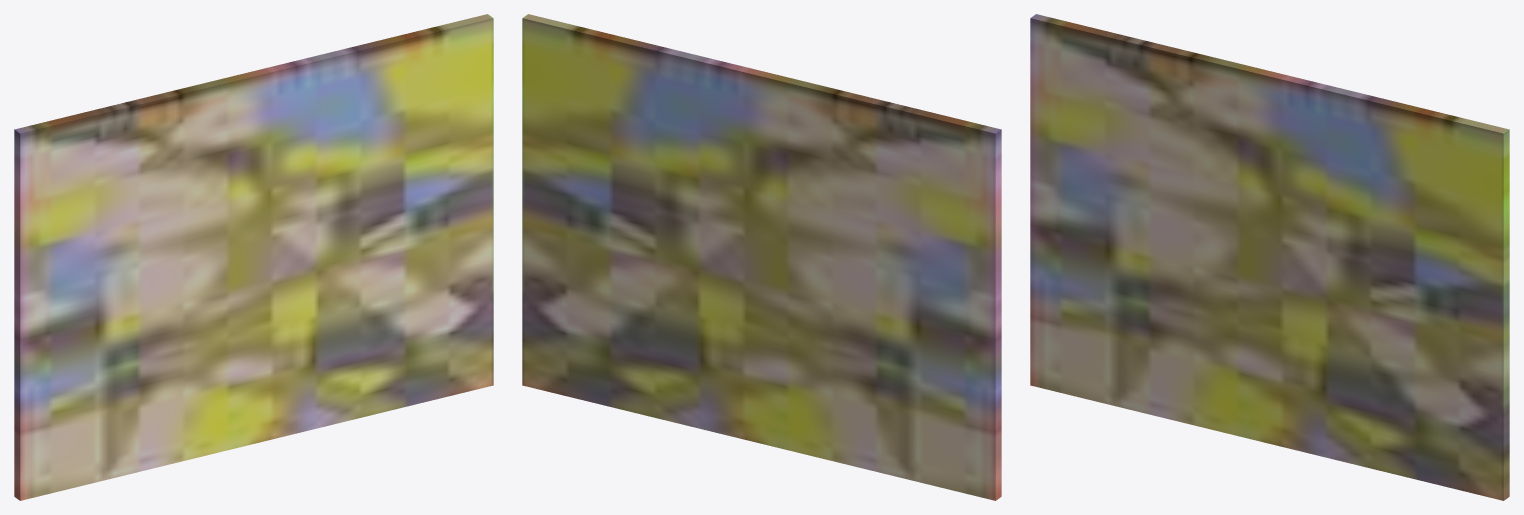
File: paintings_cubism001.fbx
3 views of the same model, side by side, from view 1: azimuth 30°, elevation 25°; view 2: azimuth 150°, elevation 25°; view 3: azimuth 330°, elevation 25° (orthographic).
Visible parts, largest first — view 1: paintings_cubism001; view 2: paintings_cubism001; view 3: paintings_cubism001.
Boxes of the visible parts, x1=… form: paintings_cubism001: x1=14, y1=14, x2=493, y2=500; paintings_cubism001: x1=522, y1=14, x2=1001, y2=500; paintings_cubism001: x1=1030, y1=14, x2=1509, y2=500.
Bounding box in the file's own units: 167 × 124 × 3.5.
1 material, 1 textured.
